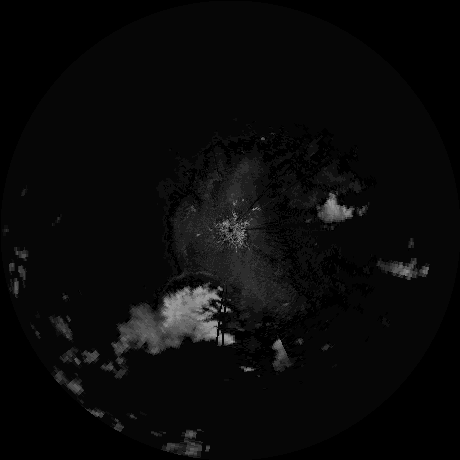frontgust: (165, 269, 218, 291)
